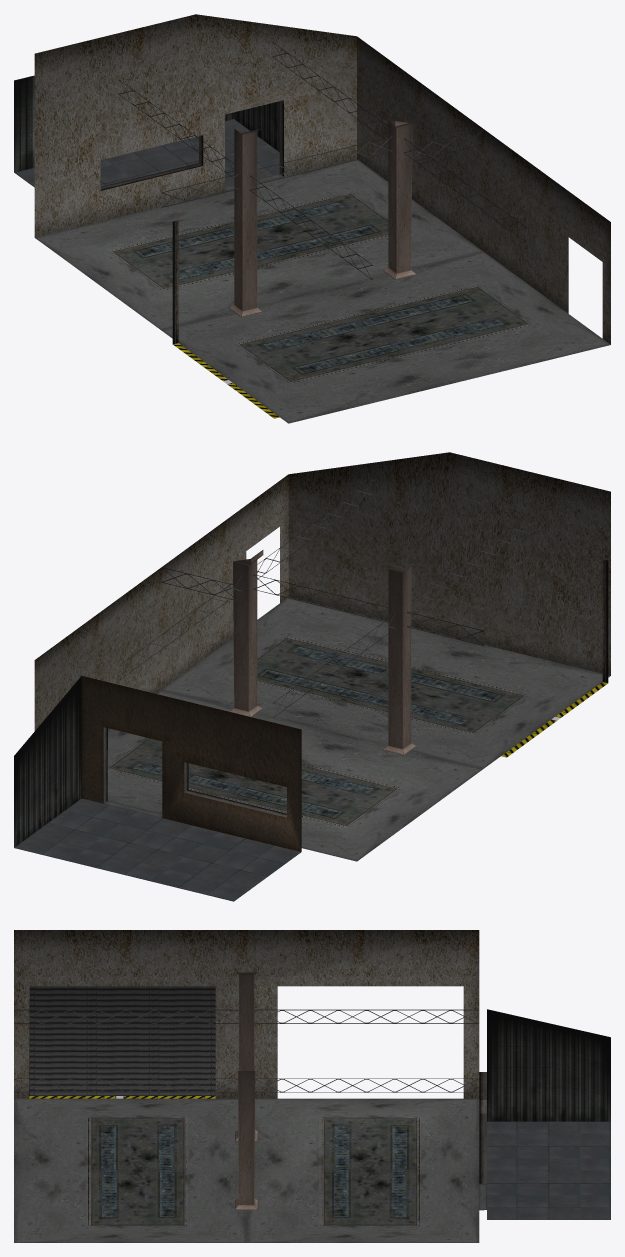
Rendered from MISSION1_GARAGE_INTERIOR.glb.
3 renders of one model, top to bottom at view 1: azimuth 30°, elevation 25°; view 2: azimuth 150°, elevation 25°; view 3: azimuth 270°, elevation 25°, orthographic. The views are drawn at different scales.
Visible parts, largest first — view 1: MISSION1_GARAGE_INTERIOR; view 2: MISSION1_GARAGE_INTERIOR; view 3: MISSION1_GARAGE_INTERIOR.
Part boxes in pixels (x1,y1,x2,y2): MISSION1_GARAGE_INTERIOR: [14, 14, 610, 423]; MISSION1_GARAGE_INTERIOR: [14, 452, 610, 901]; MISSION1_GARAGE_INTERIOR: [14, 930, 610, 1242].
Size of the model in its own units: 11.2 by 6.01 by 19.25.
15 materials, 15 textured.
